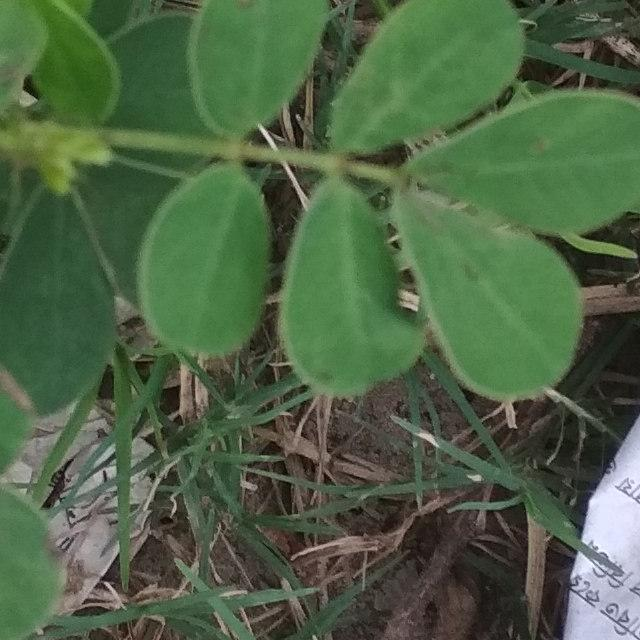paper: (494, 0, 640, 640)
